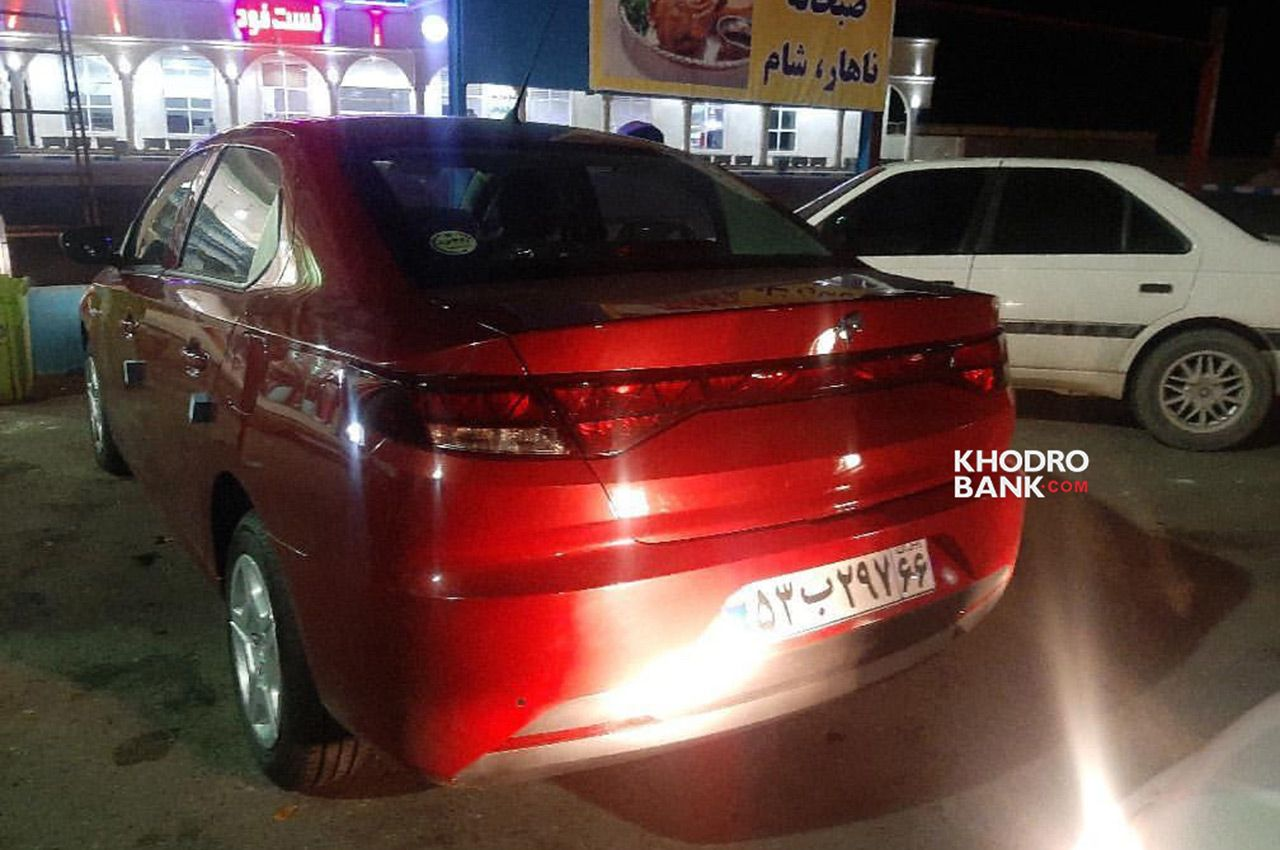car: (698, 529, 945, 657)
